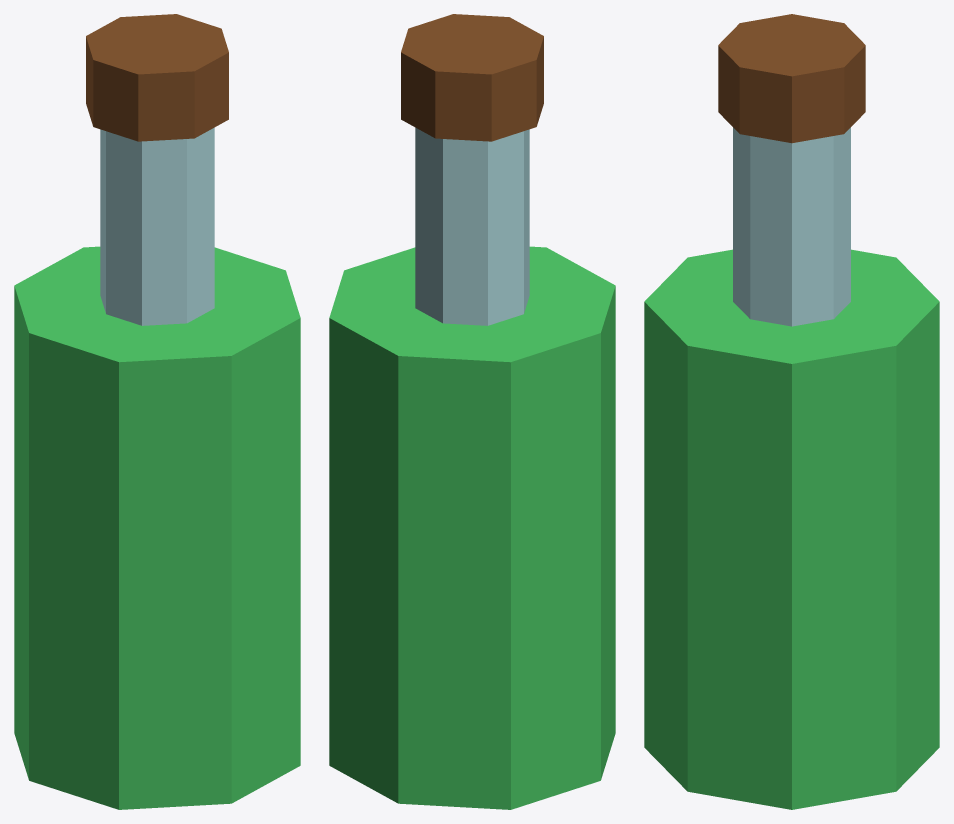
The model's file is potion_green.glb.
The picture shows the model from 3 angles, left to right: view 1: azimuth 30°, elevation 25°; view 2: azimuth 150°, elevation 25°; view 3: azimuth 270°, elevation 25°; orthographic projection.
Parts seen in each view (by area): view 1: potion_green; view 2: potion_green; view 3: potion_green.
Part boxes in pixels (x1,y1,x2,y2): potion_green: [14, 14, 300, 809]; potion_green: [329, 14, 615, 809]; potion_green: [644, 14, 939, 809].
Size of the model in its own units: 0.24 by 0.63 by 0.24.
